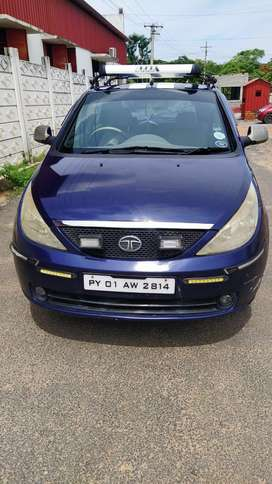PY01AW2814: (82, 273, 175, 293)
